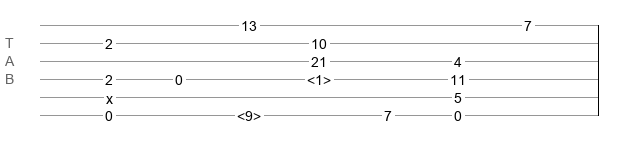0: (105, 108, 113, 118), (175, 72, 183, 82), (454, 108, 462, 118)
10: (311, 36, 327, 46)
11: (450, 72, 466, 82)
13: (241, 18, 257, 28)
2: (105, 36, 113, 46), (105, 72, 113, 82)
21: (311, 54, 327, 64)
4: (454, 54, 462, 64)
5: (454, 90, 462, 100)
7: (384, 108, 392, 118), (524, 18, 532, 28)
harmonic: (237, 108, 261, 118), (307, 72, 331, 82)
x: (106, 91, 113, 99)
